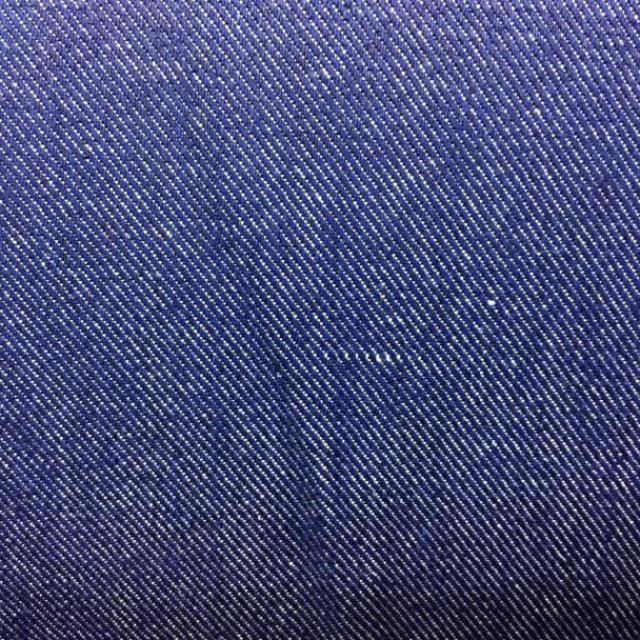Knot: (339, 351, 407, 366)
